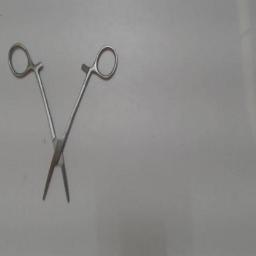Mayo Needle Holder: (4, 38, 120, 208)
